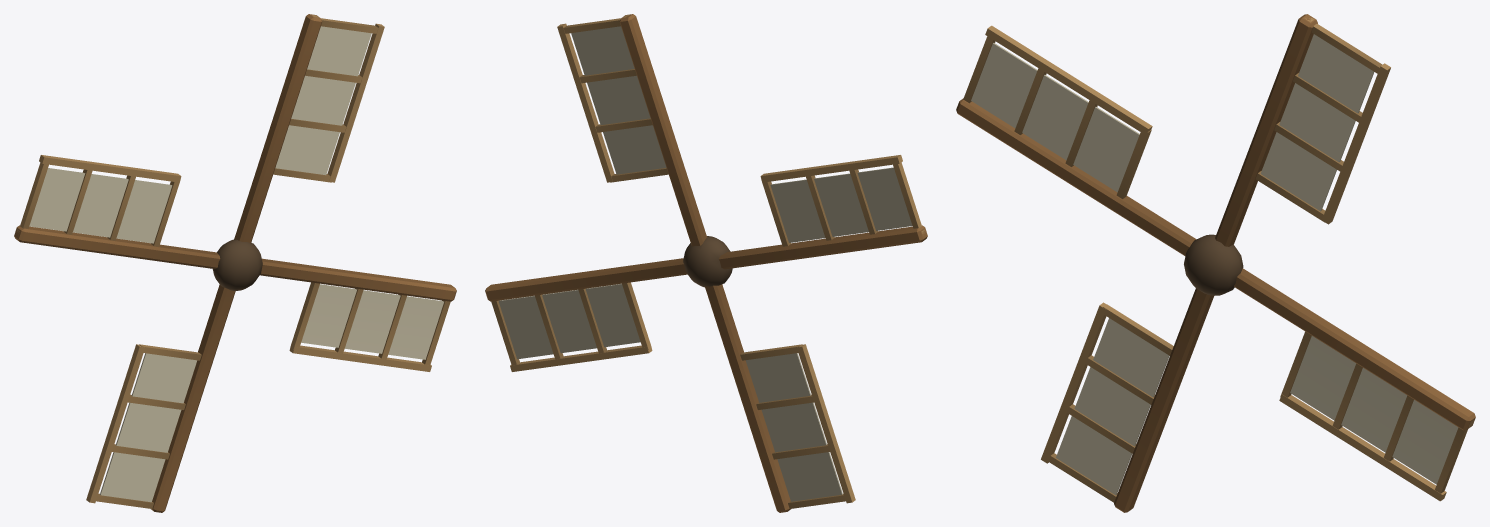
Rendered from windmill_sails.glb.
The picture shows the model from 3 angles, left to right: view 1: azimuth 30°, elevation 25°; view 2: azimuth 150°, elevation 25°; view 3: azimuth 330°, elevation 25°; orthographic projection. The views are drawn at different scales.
Parts seen in each view (by area): view 1: windmill_sails; view 2: windmill_sails; view 3: windmill_sails.
Boxes of the visible parts, box(x1,y1,x2,y2) form: windmill_sails: box(14, 14, 456, 512); windmill_sails: box(485, 14, 927, 512); windmill_sails: box(956, 14, 1475, 512).
Bounding box in the file's own units: 1.89 × 1.89 × 0.16.
